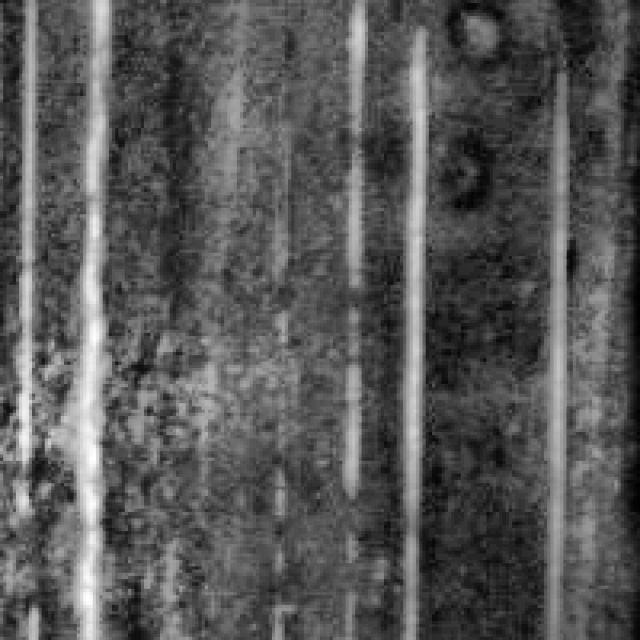Inclusion: (61, 0, 115, 634), (384, 45, 438, 637), (534, 70, 573, 637)
